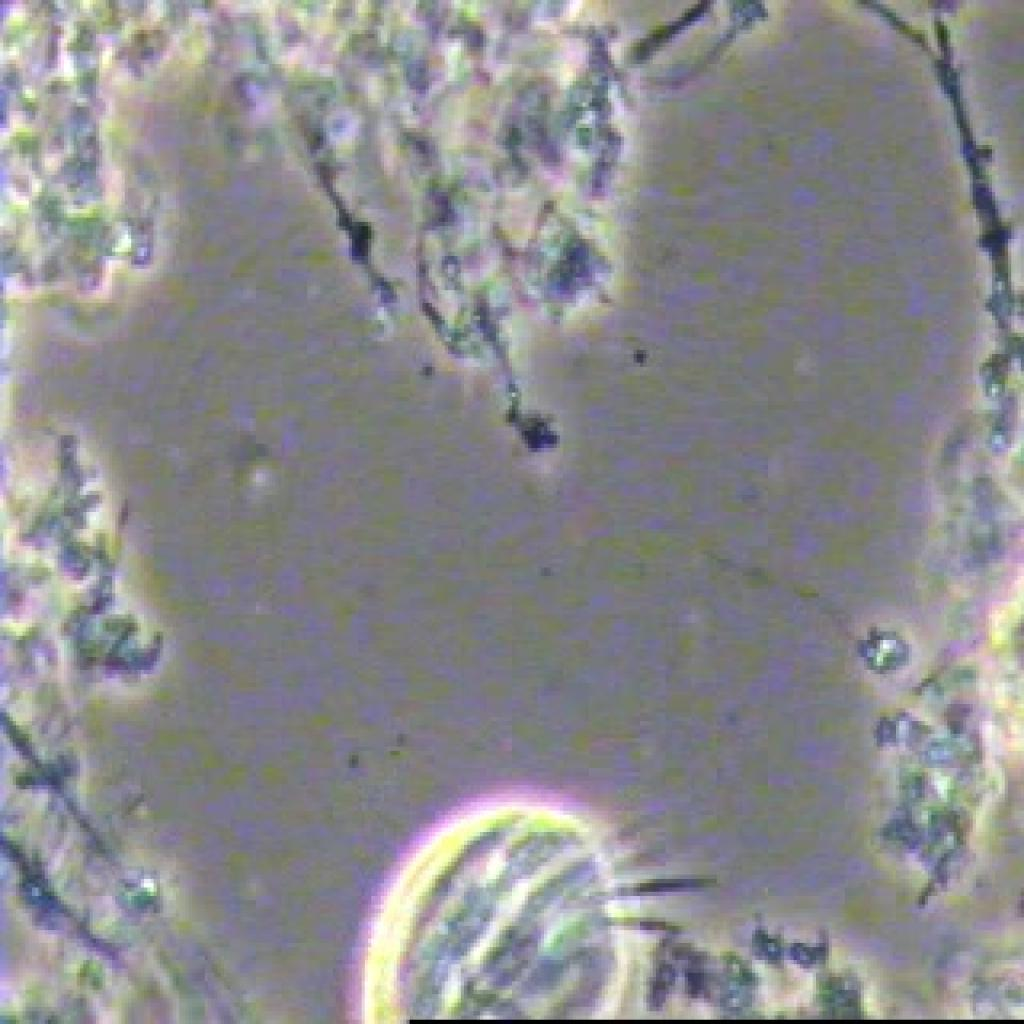Aspidisca: (333, 768, 710, 1024)
